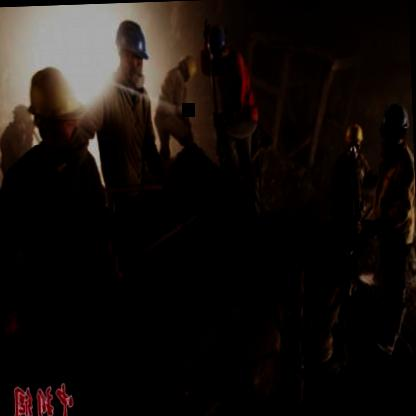helmet: (22, 59, 92, 163), (106, 12, 152, 92), (374, 97, 412, 159), (206, 24, 230, 70), (342, 119, 367, 159), (174, 50, 200, 85)
